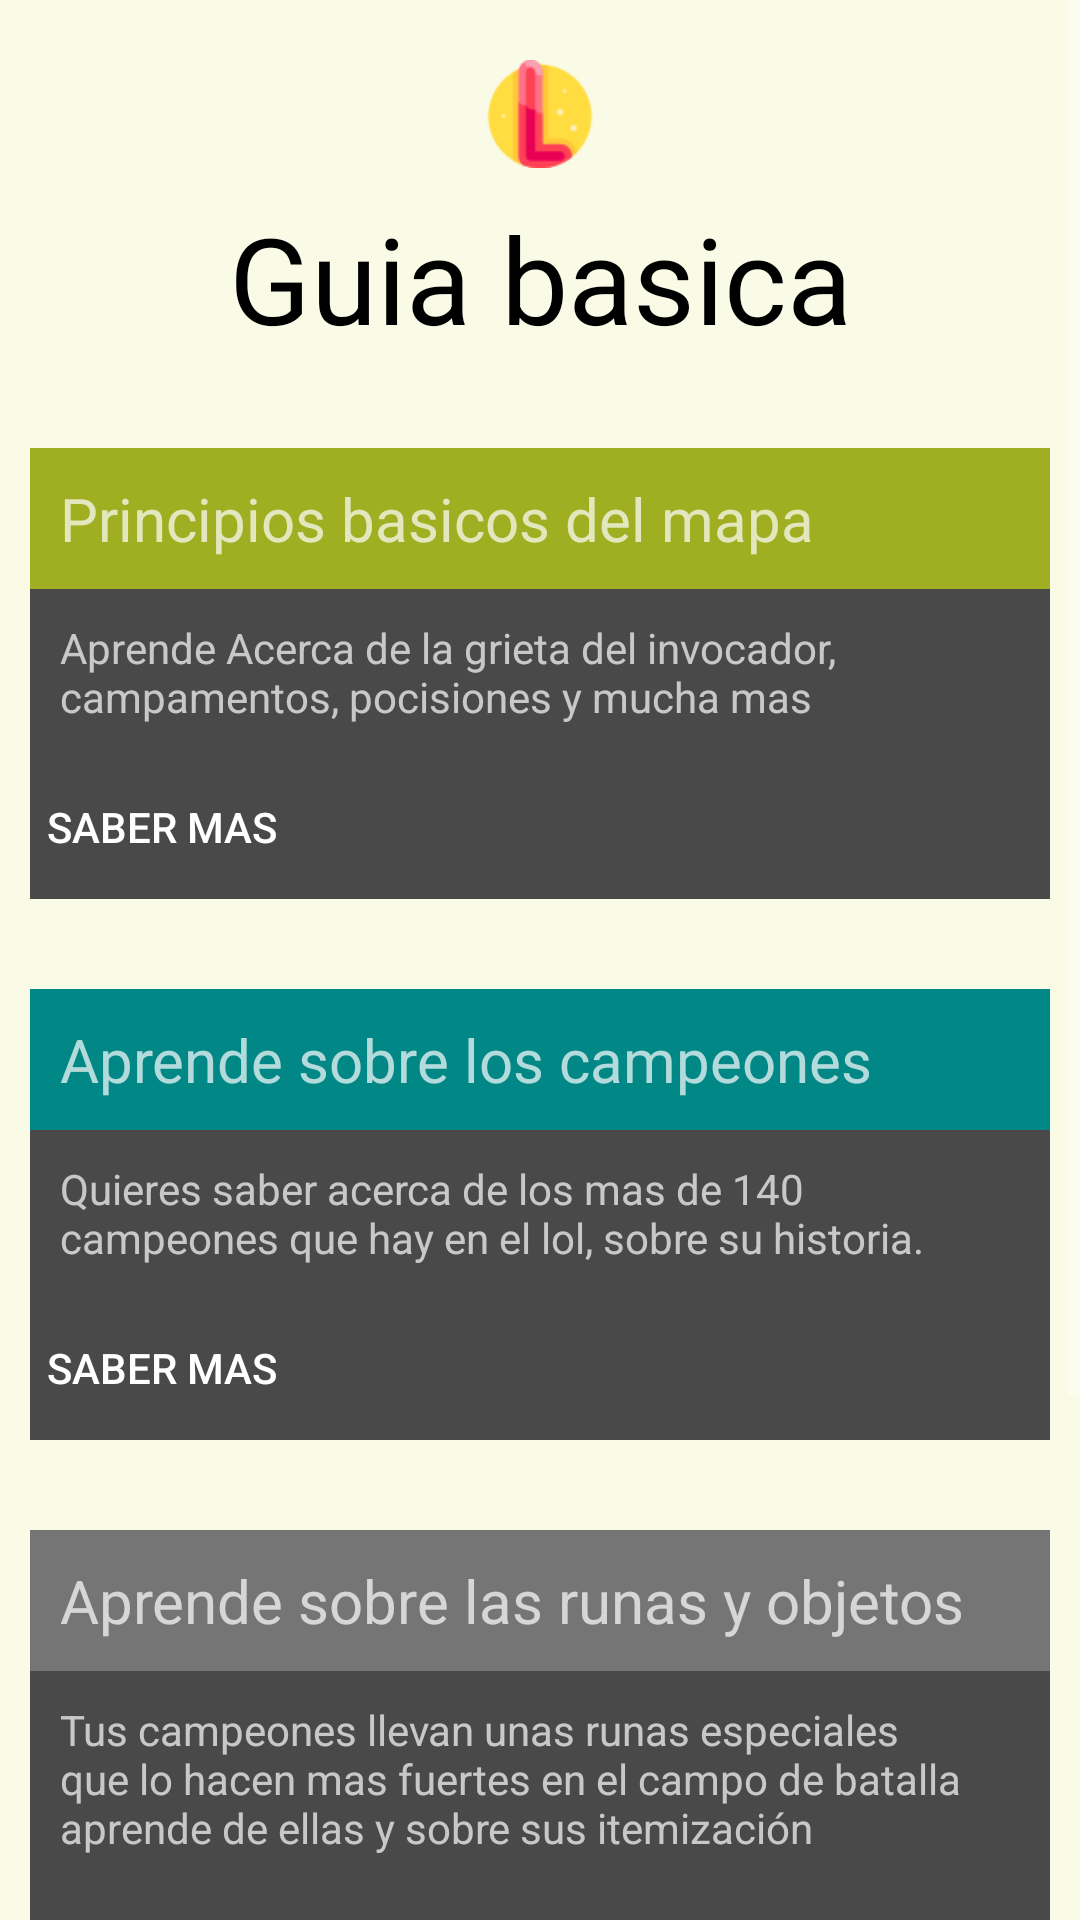

Point at icon controls on the screen. Image size 1080px×1920px, points as (x=x, y=y).
letraicono: (x=540, y=114)
